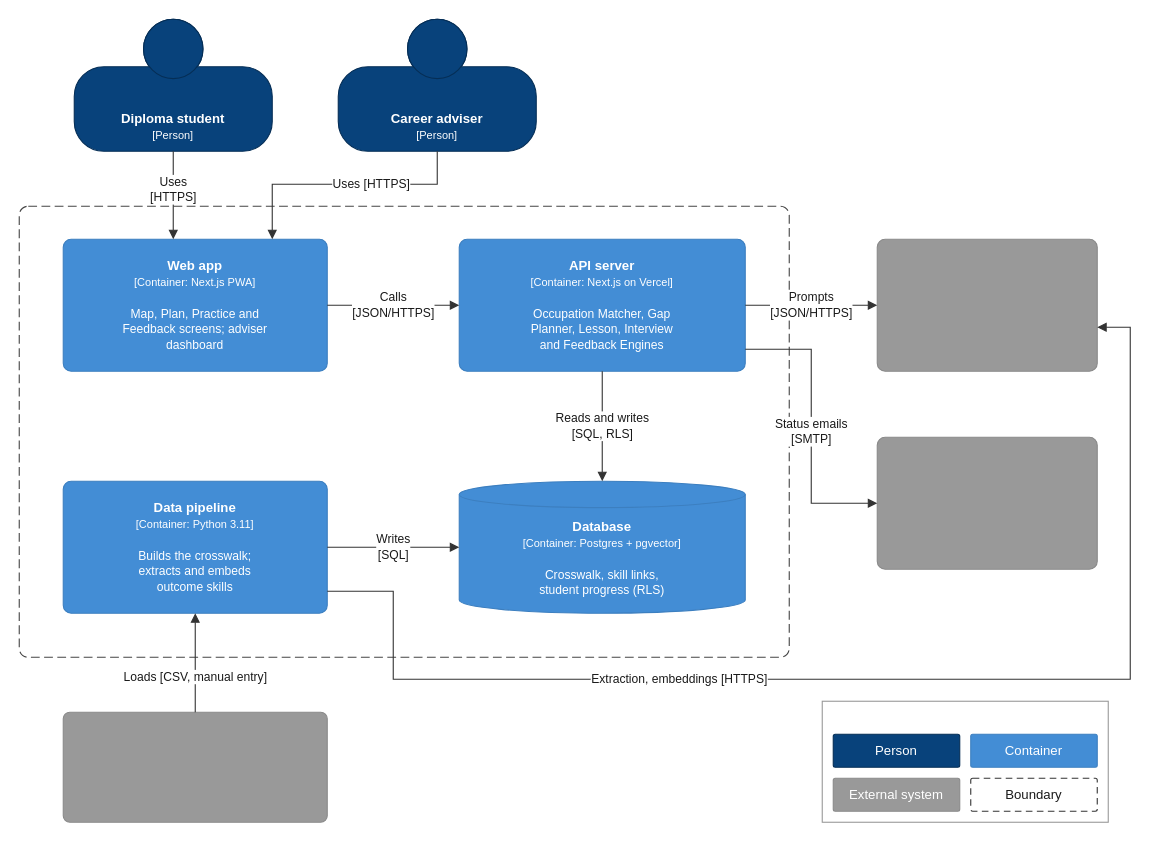
Some shapes in this 1158 by 842 pixel diagram are drawn without their labels. Here are the shapes that lost their labels. From the top down, the box of each, then its label:
(876, 238, 1097, 371): OpenAI API [Software System] Language model and embeddings
(18, 205, 789, 657): CareerPrep [Software System]
(876, 436, 1097, 569): Email provider [Software System] Sends booking status emails
(62, 711, 327, 822): Reference data [External data] ESCO, eMASCO, GMI programme outcomes
(821, 700, 1108, 822): Key
